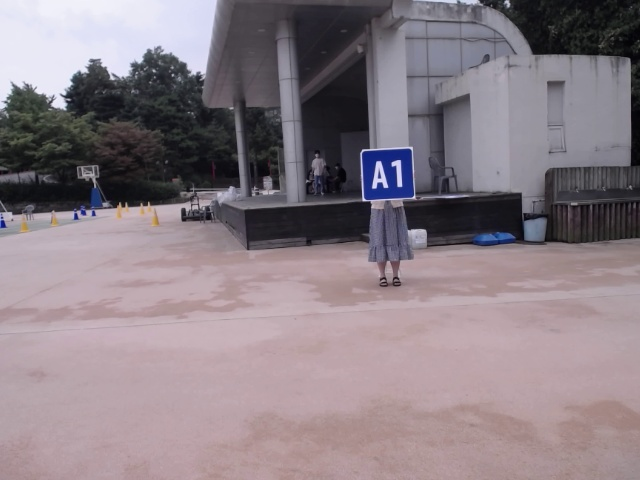delivery_a1: (361, 148, 415, 201)
